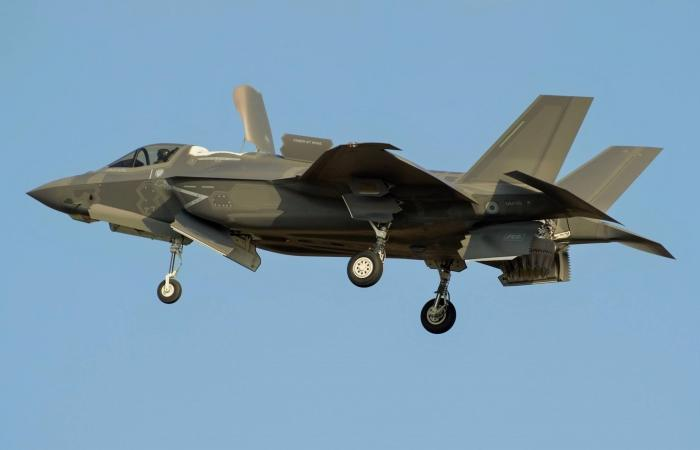F-35 Lightning: (25, 54, 625, 339)
